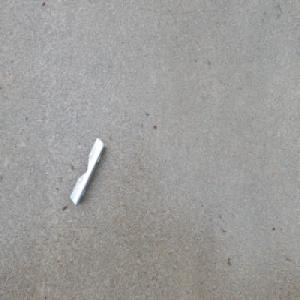ClampPart: (69, 135, 106, 207)
